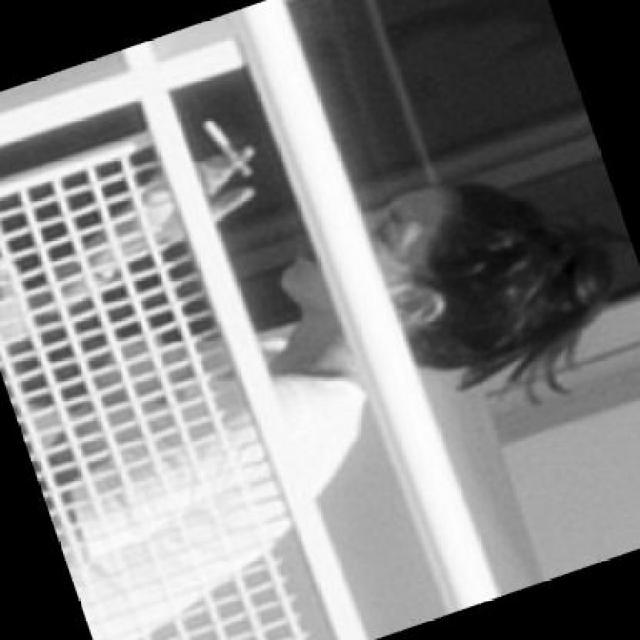smoke: (197, 112, 256, 188)
